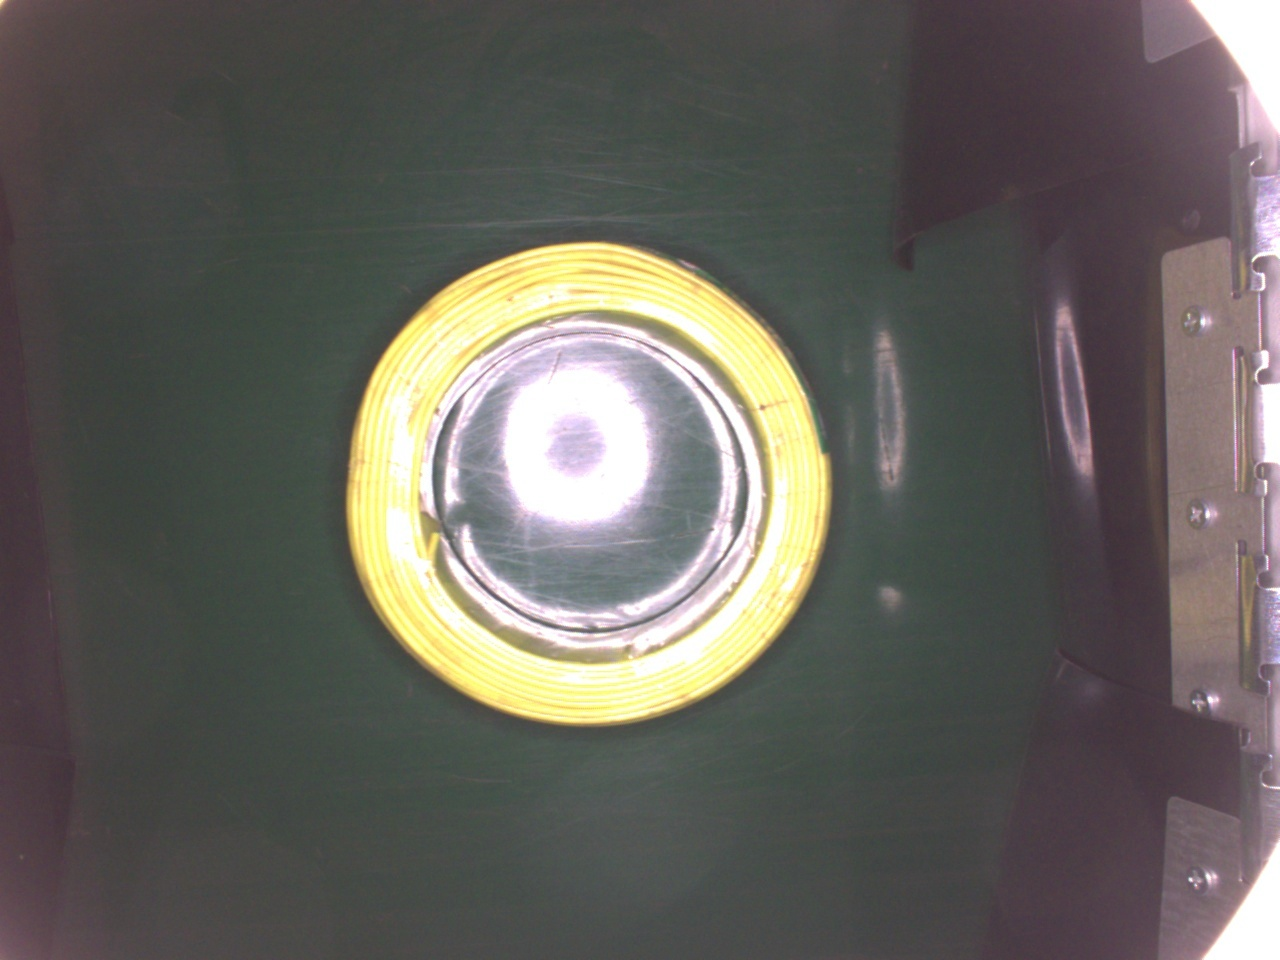yellow: (345, 236, 830, 729)
